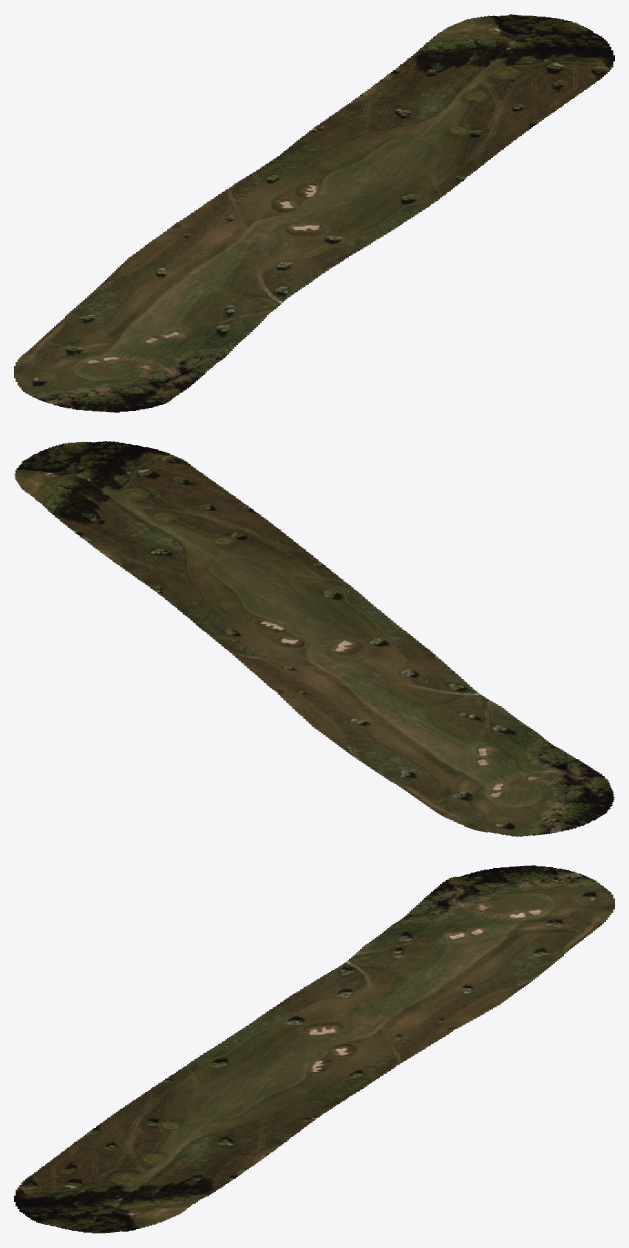
Rendered from elisefarm_9.glb.
3 views of the same model, one above another, from view 1: azimuth 90°, elevation 25°; view 2: azimuth 150°, elevation 25°; view 3: azimuth 270°, elevation 25° (orthographic).
Visible parts, largest first — view 1: ground; view 2: ground; view 3: ground.
Part boxes in pixels (bbox=[...]): ground: bbox=[14, 14, 614, 412]; ground: bbox=[14, 441, 614, 836]; ground: bbox=[14, 865, 614, 1233].
Bounding box in the file's own units: 496 × 12.18 × 330.
Materials: 1 (1 with a texture image).
